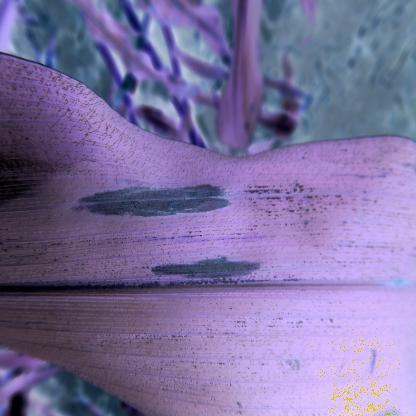corn leaf blight: (0, 72, 410, 416)
